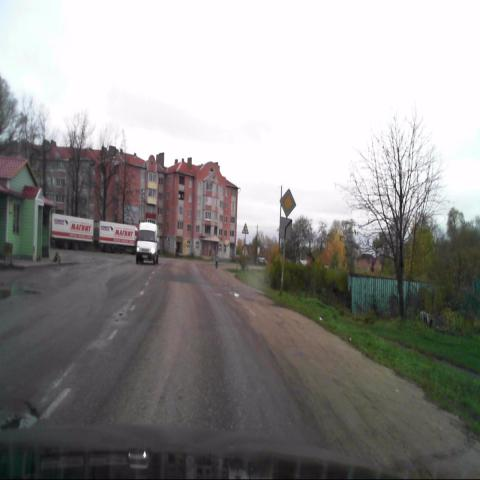1_2: (241, 221, 249, 234)
2_1: (279, 188, 296, 217)
